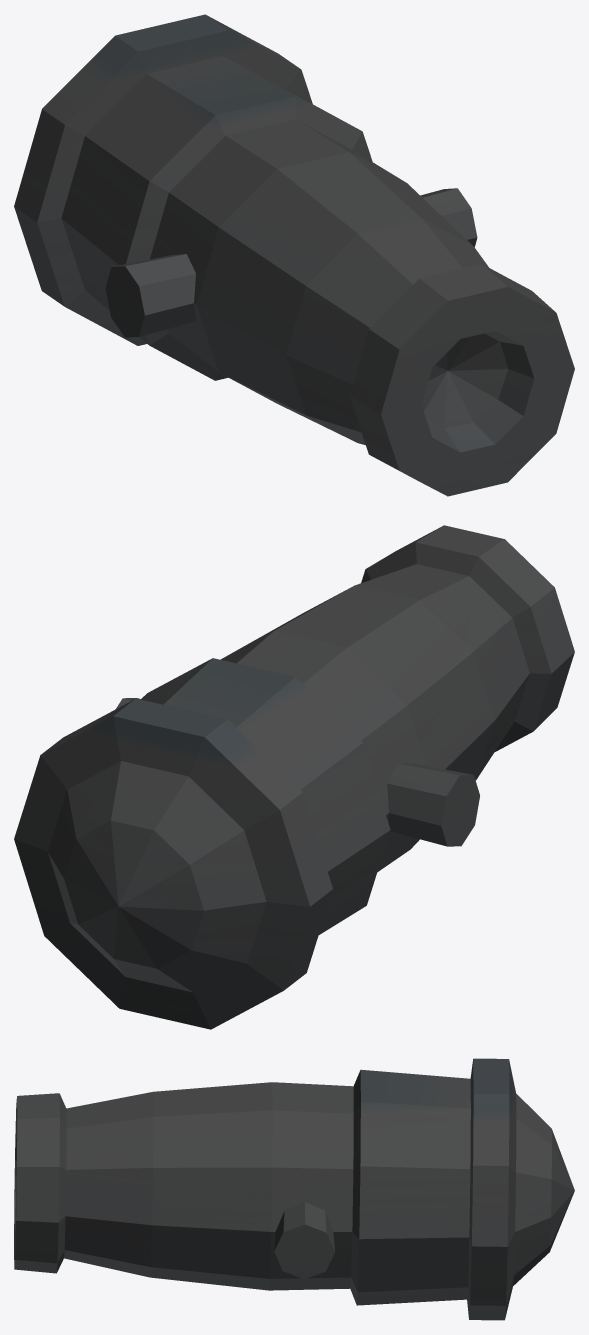
The model's file is Cannon.FBX.
3 views of the same model, one above another, from view 1: azimuth 30°, elevation 25°; view 2: azimuth 150°, elevation 25°; view 3: azimuth 270°, elevation 25° (orthographic). The views are drawn at different scales.
Parts seen in each view (by area): view 1: Cannon; view 2: Cannon; view 3: Cannon.
Boxes of the visible parts, <box> form: Cannon: <box>14,14,574,496</box>; Cannon: <box>14,525,574,1029</box>; Cannon: <box>14,1058,574,1320</box>.
Size of the model in its own units: 1.11 by 0.9343 by 2.08.
